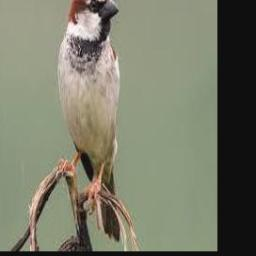Sparrow: (56, 0, 121, 241)
